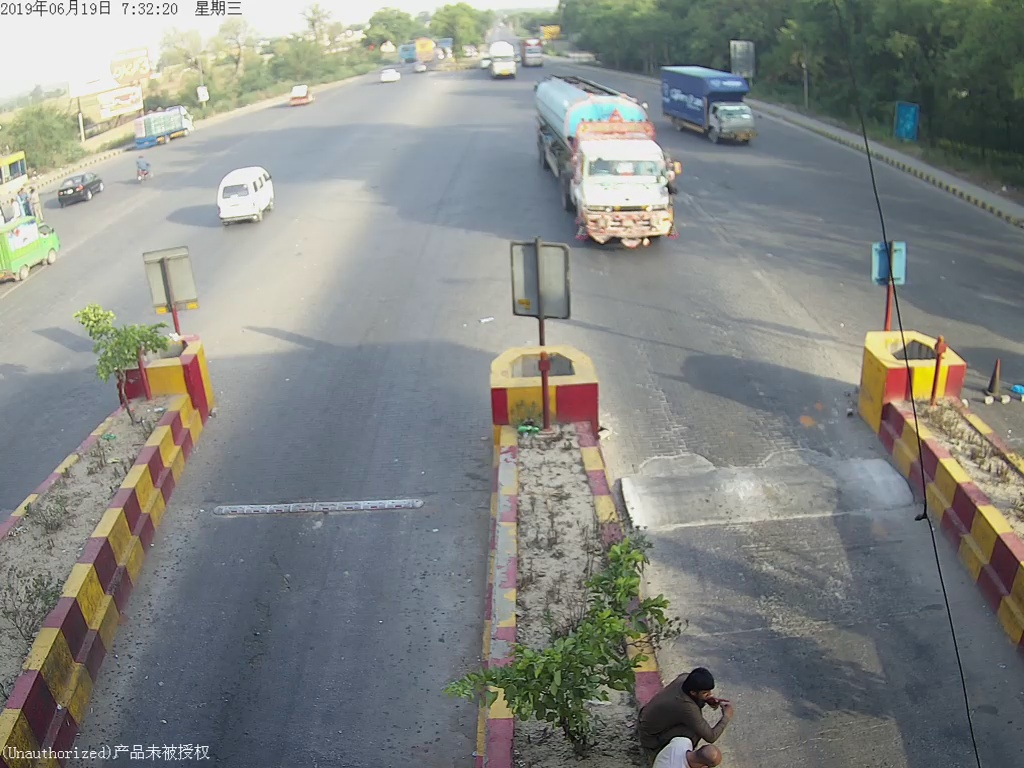Cat-5: (536, 81, 676, 249)
